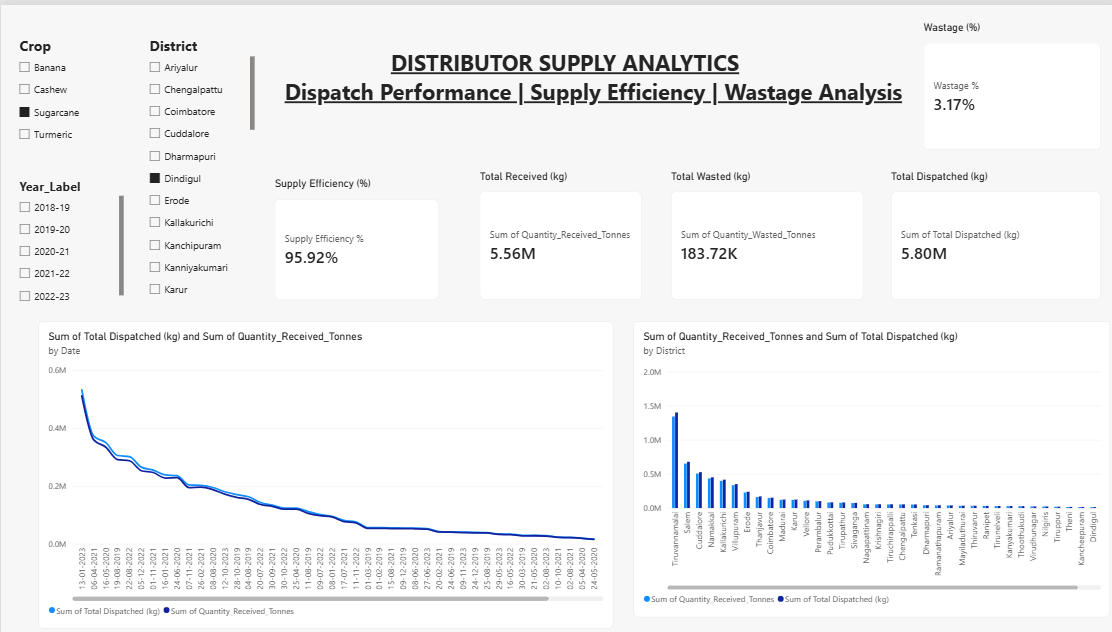

The page's visual inventory and layout, read from the dashboard file:
{"tool":"powerbi","page":{"name":"DIDTRIBUTOR SUPPLY","canvas":[1920,1080],"ordinal":1},"visuals":[{"type":"cardVisual","title":"Total Dispatched (kg)","fields":{"Data":["Sum(Distributor_Supply new.Quantity_Dispatched_Tonnes)"]},"box":[1522.3,282.2,359.2,222.4],"z":0},{"type":"cardVisual","title":"Total Received (kg)","fields":{"Data":["Sum(Distributor_Supply new.Quantity_Received_Tonnes)"]},"box":[818.9,282.2,278,222.4],"z":1000},{"type":"cardVisual","title":"Total Wasted (kg)","fields":{"Data":["Sum(Distributor_Supply new.Quantity_Wasted_Tonnes)"]},"box":[1146,282.2,329.3,222.4],"z":2000},{"type":"cardVisual","title":"Supply Efficiency (%)","fields":{"Data":["CropTable.Supply Efficiency %"]},"box":[468.2,295.1,280,210],"z":3000},{"type":"clusteredColumnChart","fields":{"Category":["Distributor_Supply new.District"],"Y":["Sum(Distributor_Supply new.Quantity_Received_Tonnes)","Sum(Distributor_Supply new.Total Dispatched (kg))"]},"box":[1081.9,540.9,816.7,506.7],"z":4000},{"type":"cardVisual","title":"Wastage (%)","fields":{"Data":["CropTable.Wastage %"]},"box":[1577.9,27.8,303.6,220.2],"z":5000},{"type":"lineChart","fields":{"Category":["Distributor_Supply new.Date"],"Y":["Sum(Distributor_Supply new.Total Dispatched (kg))","Sum(Distributor_Supply new.Quantity_Received_Tonnes)"]},"box":[64.1,540.9,983.5,526],"z":6000},{"type":"slicer","fields":{"Values":["CropTable.Crop"]},"box":[23.5,53.5,162.5,196.7],"z":7000},{"type":"slicer","fields":{"Values":["farmer prodcution new.District"]},"box":[245.9,53.5,188.2,455.4],"z":8000},{"type":"slicer","fields":{"Values":["farmer prodcution new.Year_Label"]},"box":[23.5,295.1,186,213.8],"z":9000},{"type":"textbox","box":[485.3,72.7,1069,132.6],"z":9001}]}

Visuals, with their boxes in screenshot pixels (x1, y1, x2, y2), scaled from the page's 1920x1080 canvas onto the 1112x632 screenshot:
"Total Dispatched (kg)" cardVisual: bbox(882, 165, 1090, 295)
"Total Received (kg)" cardVisual: bbox(474, 165, 635, 295)
"Total Wasted (kg)" cardVisual: bbox(664, 165, 854, 295)
"Supply Efficiency (%)" cardVisual: bbox(271, 173, 433, 296)
clusteredColumnChart - Distributor_Supply new.District x Sum(Distributor_Supply new.Quantity_Received_Tonnes): bbox(627, 317, 1100, 613)
"Wastage (%)" cardVisual: bbox(914, 16, 1090, 145)
lineChart - Distributor_Supply new.Date x Sum(Distributor_Supply new.Total Dispatched (kg)): bbox(37, 317, 607, 624)
slicer - CropTable.Crop: bbox(14, 31, 108, 146)
slicer - farmer prodcution new.District: bbox(142, 31, 251, 298)
slicer - farmer prodcution new.Year_Label: bbox(14, 173, 121, 298)
textbox: bbox(281, 43, 900, 120)
